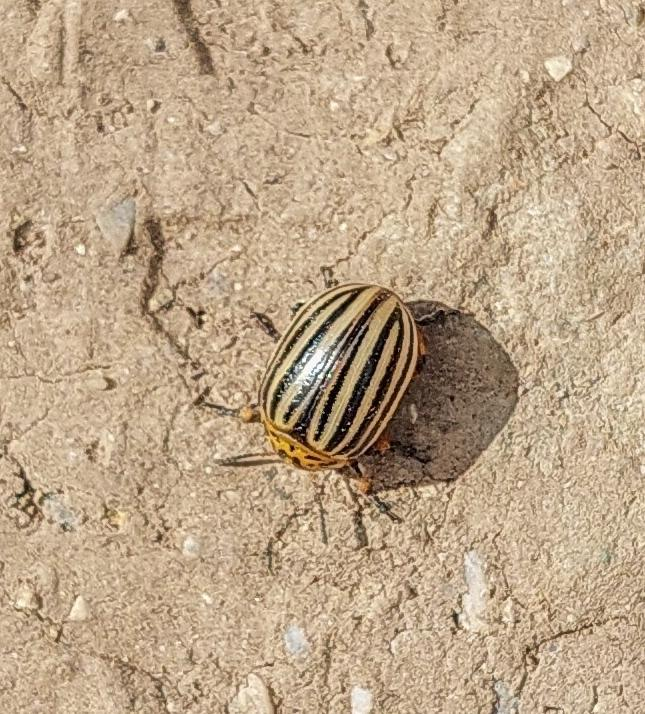potato_beetle: (179, 223, 488, 532)
